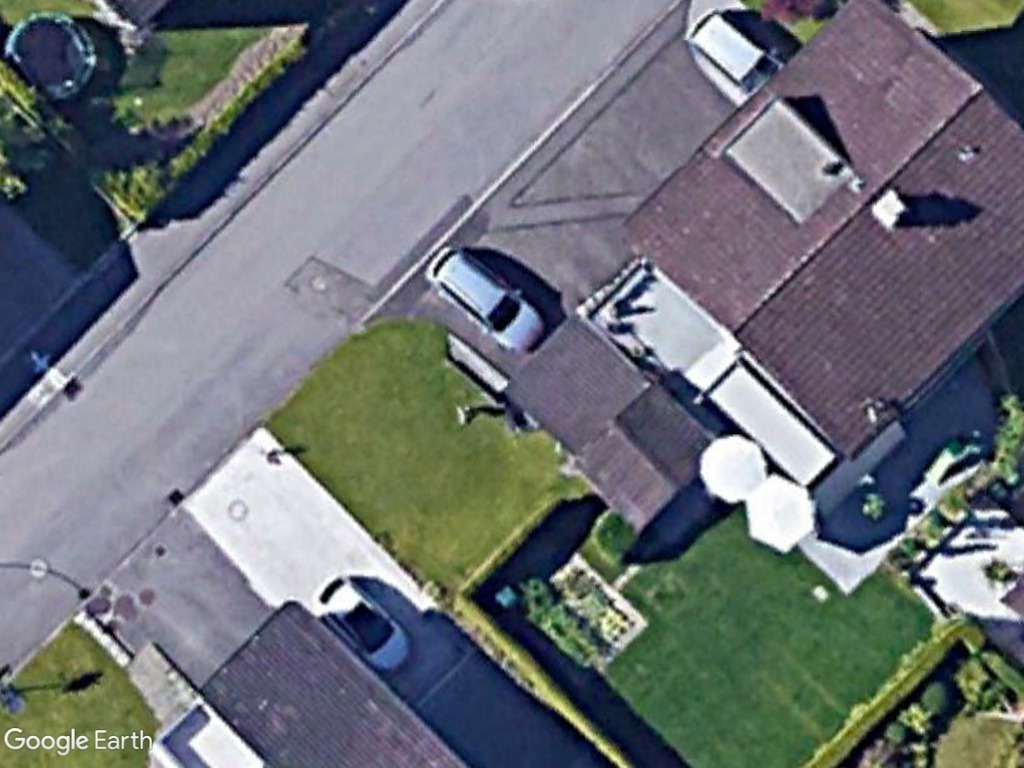car: (424, 244, 548, 357), (309, 570, 417, 674)
